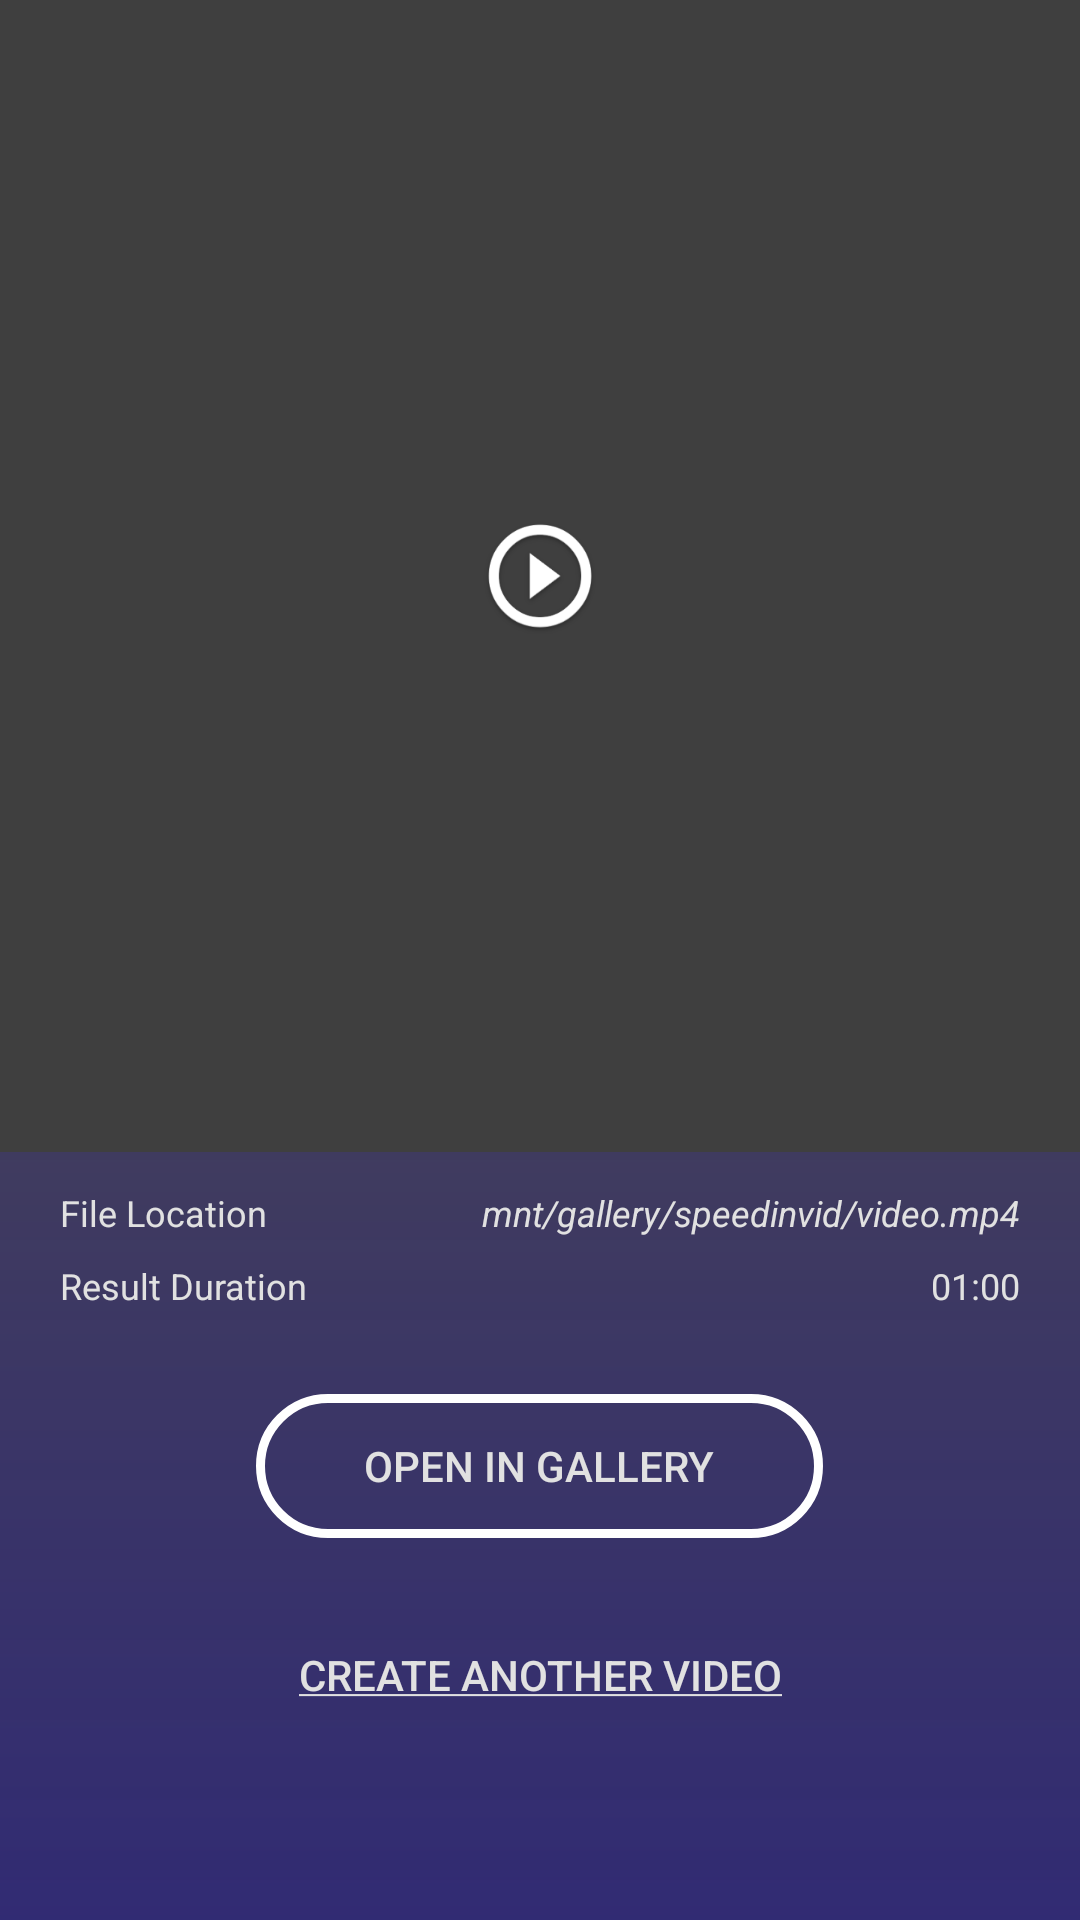

Locate icon controls on the screen. Image size 1080w x 1920h, boxes as (x1, y1, x2, y2).
play: (488, 524, 592, 628)
